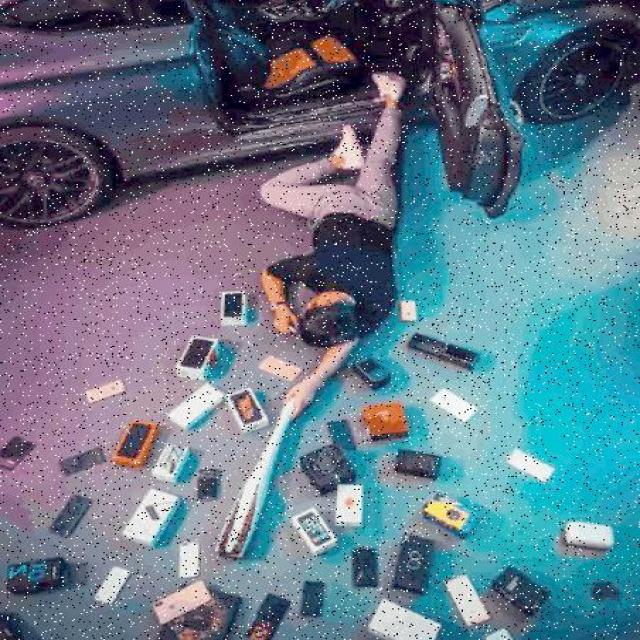fall: (260, 71, 420, 394)
